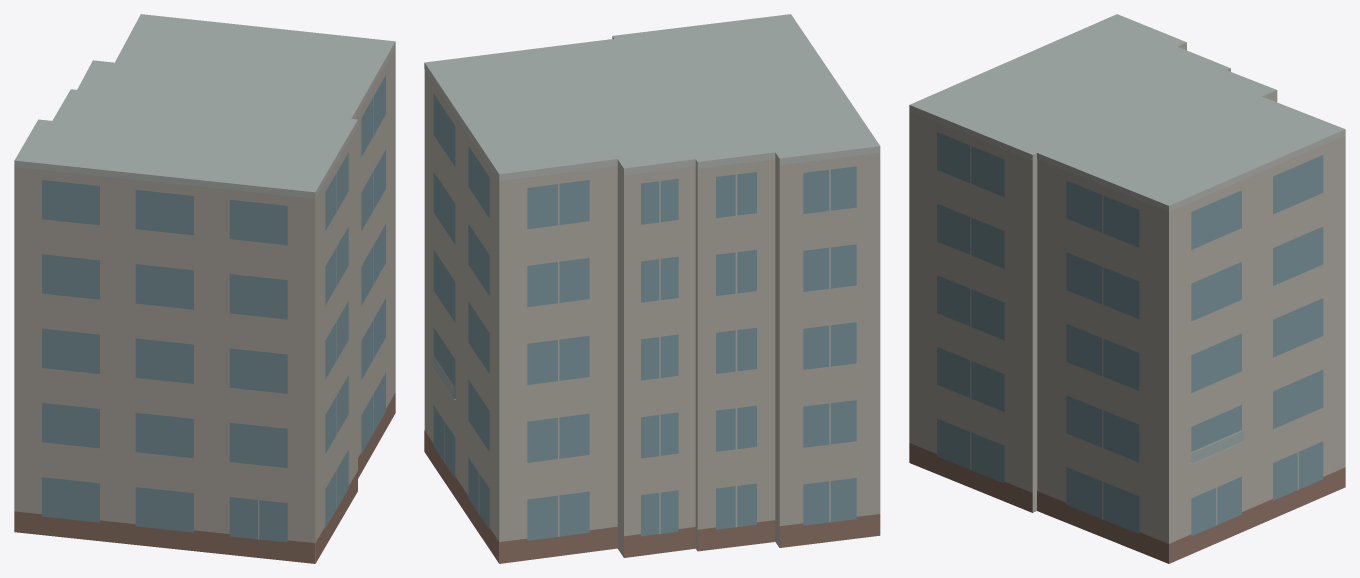
File: survey-upis-32687283.glb
The picture shows the model from 3 angles, left to right: view 1: azimuth 30°, elevation 25°; view 2: azimuth 150°, elevation 25°; view 3: azimuth 270°, elevation 25°; orthographic projection. The views are drawn at different scales.
Visible parts, largest first — view 1: survey-upis-32687283.tmp; view 2: survey-upis-32687283.tmp; view 3: survey-upis-32687283.tmp.
Part boxes in pixels (x1,y1,x2,y2): survey-upis-32687283.tmp: (14, 14, 395, 563); survey-upis-32687283.tmp: (424, 14, 880, 563); survey-upis-32687283.tmp: (909, 14, 1345, 563).
Bounding box in the file's own units: 16.33 × 14.2 × 15.69.
